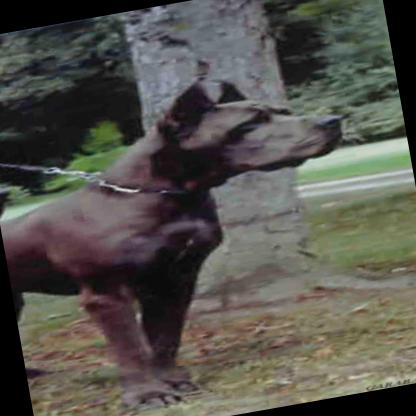Great_Dane: (0, 59, 385, 416)
